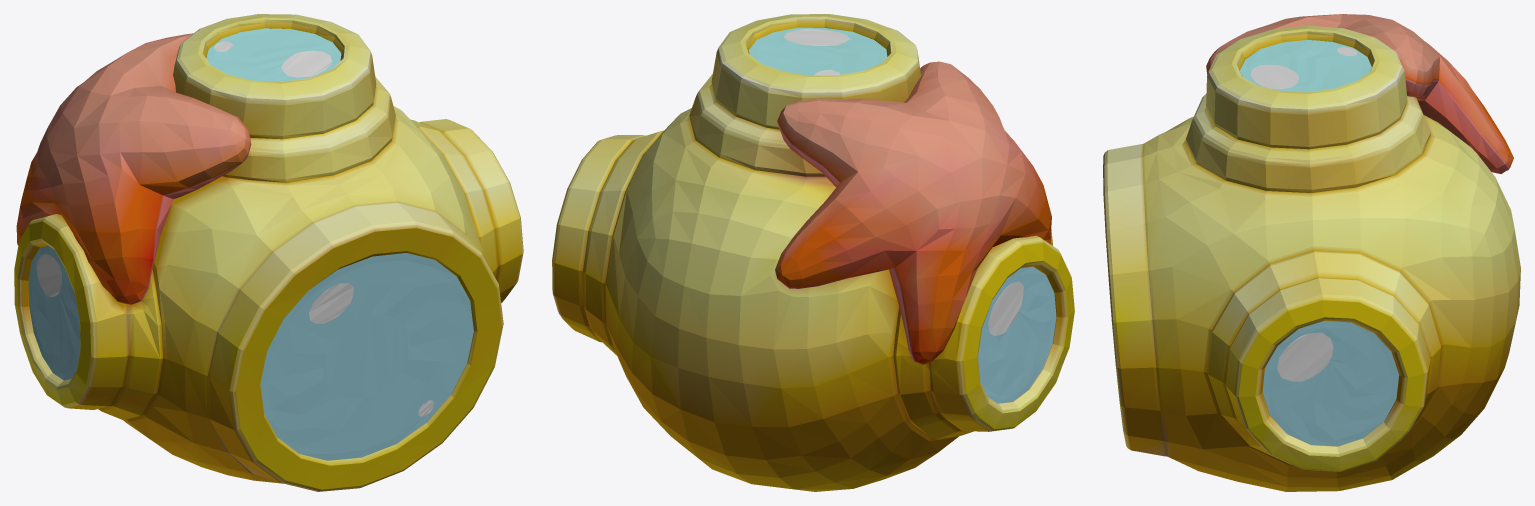
The model's file is SharkHankHelmet.glb.
3 views of the same model, side by side, from view 1: azimuth 30°, elevation 25°; view 2: azimuth 150°, elevation 25°; view 3: azimuth 270°, elevation 25° (orthographic). The views are drawn at different scales.
Visible parts, largest first — view 1: SharkHankHelmet, glass; view 2: SharkHankHelmet, glass; view 3: SharkHankHelmet, glass.
Part boxes in pixels (box(x1,y1,x2,y2)): SharkHankHelmet: box(14, 14, 523, 491); glass: box(28, 28, 473, 460); SharkHankHelmet: box(552, 14, 1074, 491); glass: box(748, 27, 1056, 403); SharkHankHelmet: box(1103, 14, 1520, 491); glass: box(1240, 40, 1399, 446).
Bounding box in the file's own units: 0.6228 × 0.5565 × 0.5157.
